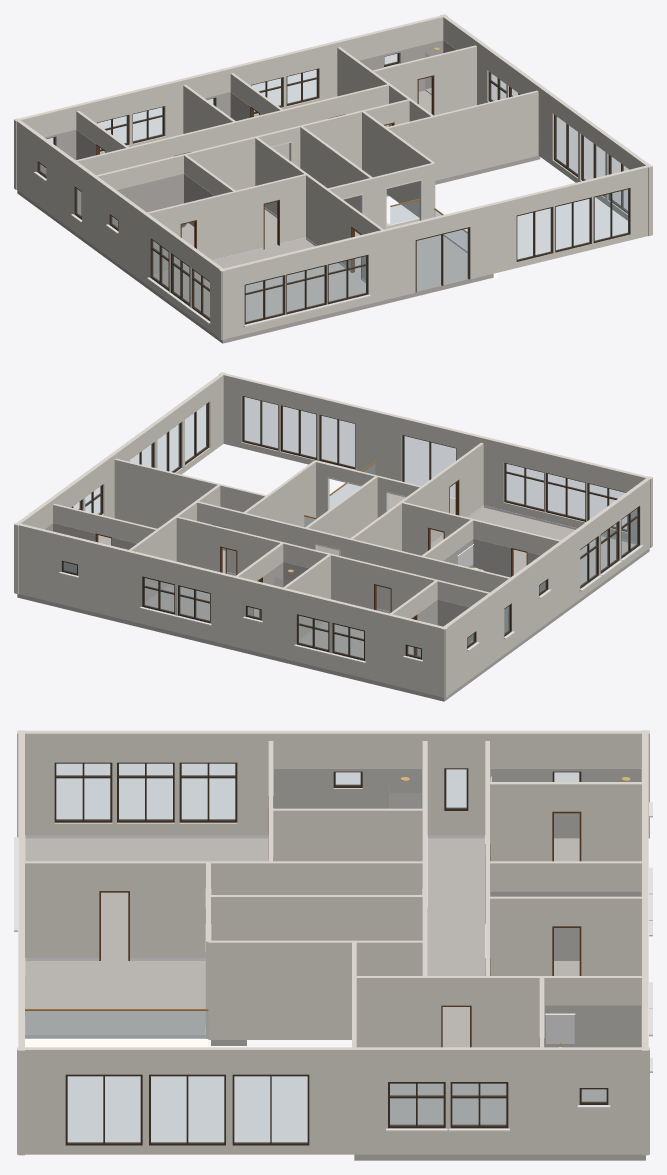
Rendered from int_est_S5_1.glb.
The picture shows the model from 3 angles, top to bottom: view 1: azimuth 30°, elevation 25°; view 2: azimuth 150°, elevation 25°; view 3: azimuth 270°, elevation 25°; orthographic projection. The views are drawn at different scales.
Parts seen in each view (by area): view 1: WALL_0, ROOM, WALL_10, WALL_14, WALL_5, WALL_4, WALL_9, WALL_7, WALL_15, WALL_1, WALL_12, WALL_3 (+7 smaller); view 2: WALL_14, WALL_0, WALL_10, ROOM, WALL_5, WALL_15, WALL_7, WALL_4, WALL_1, WALL_9, WALL_3, WALL_8 (+7 smaller); view 3: WALL_5, ROOM, WALL_10, WALL_1, WALL_3, WALL_13, WALL_16, WALL_17, WALL_8, WALL_11, WALL_2, WALL_4 (+6 smaller).
Part boxes in pixels (x1,y1,x2,y2): WALL_0: [219, 164, 652, 339]; ROOM: [17, 40, 540, 343]; WALL_10: [14, 118, 226, 340]; WALL_14: [14, 14, 447, 189]; WALL_5: [440, 14, 652, 235]; WALL_4: [387, 90, 553, 180]; WALL_9: [147, 173, 306, 274]; WALL_7: [96, 99, 409, 190]; WALL_15: [76, 84, 388, 215]; WALL_1: [255, 137, 383, 280]; WALL_12: [371, 45, 476, 115]; WALL_3: [361, 111, 435, 217]; WALL_14: [14, 522, 447, 697]; WALL_0: [219, 372, 652, 547]; WALL_10: [440, 476, 652, 698]; ROOM: [17, 461, 649, 701]; WALL_5: [14, 372, 226, 593]; WALL_15: [176, 516, 489, 619]; WALL_7: [197, 501, 509, 632]; WALL_4: [103, 458, 266, 528]; WALL_1: [350, 442, 483, 550]; WALL_9: [401, 501, 560, 576]; WALL_3: [243, 461, 315, 526]; WALL_8: [305, 476, 377, 555]; WALL_5: [17, 1047, 649, 1154]; ROOM: [25, 768, 645, 1160]; WALL_10: [17, 730, 649, 838]; WALL_1: [25, 861, 422, 960]; WALL_3: [208, 940, 425, 1039]; WALL_13: [354, 976, 641, 1047]; WALL_16: [487, 896, 641, 975]; WALL_17: [487, 782, 641, 861]; WALL_8: [211, 895, 425, 940]; WALL_11: [271, 808, 425, 861]; WALL_2: [487, 861, 641, 890]; WALL_4: [309, 942, 387, 1128].
Bounding box in the file's own units: 23.83 × 3.9 × 19.93.
Materials: 13 (1 with a texture image).
